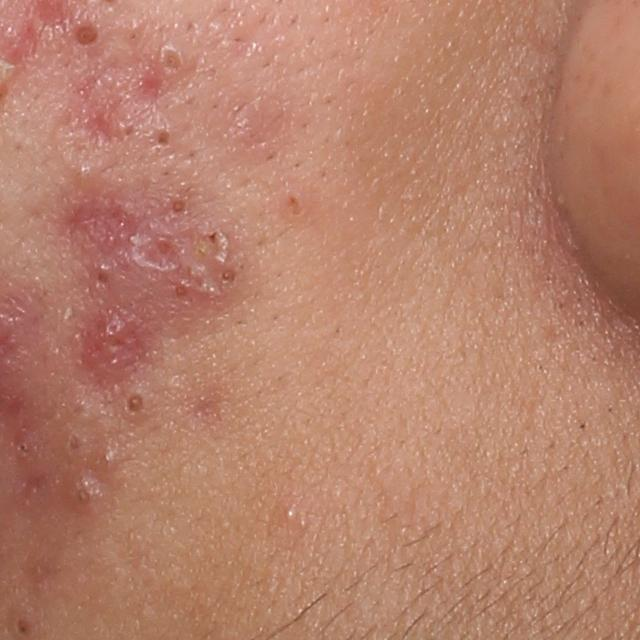atrophic_scar: (59, 57, 127, 168), (123, 65, 168, 111)
comedo: (151, 39, 188, 79), (118, 388, 149, 416), (69, 21, 101, 48), (11, 611, 37, 639), (153, 125, 177, 152), (215, 263, 240, 288), (168, 193, 191, 218), (284, 503, 305, 522)
papule: (85, 310, 136, 355), (67, 472, 106, 509), (93, 440, 123, 471)
